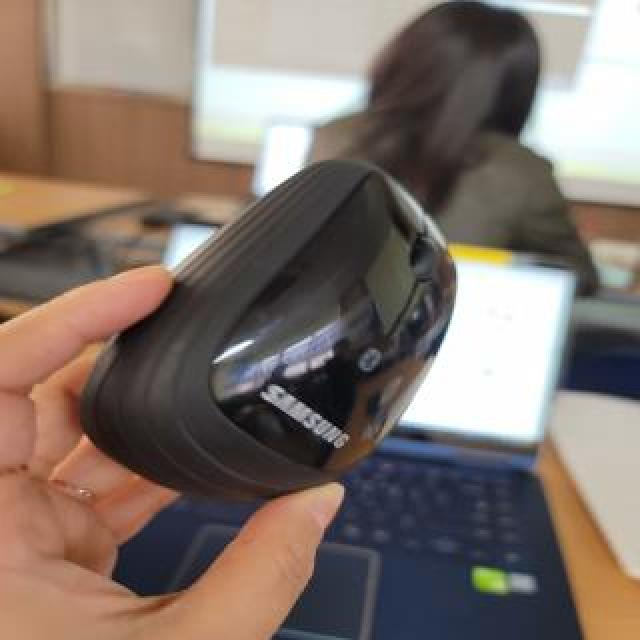mouse: (108, 138, 460, 514)
